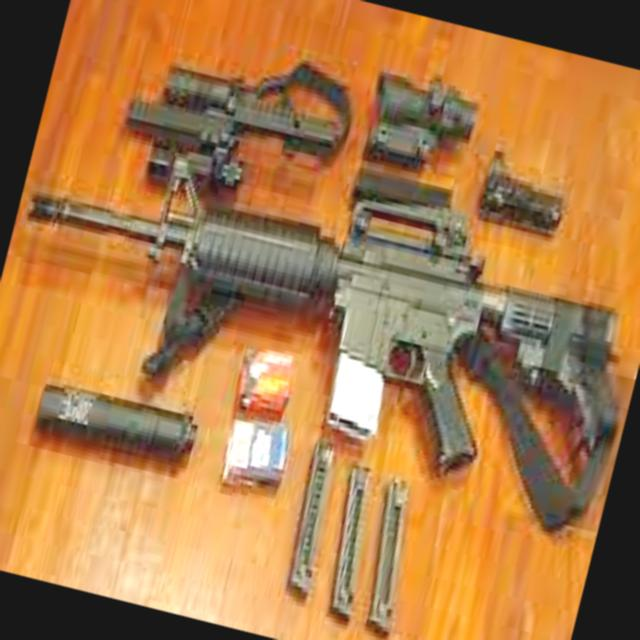m16: (4, 144, 560, 480)
